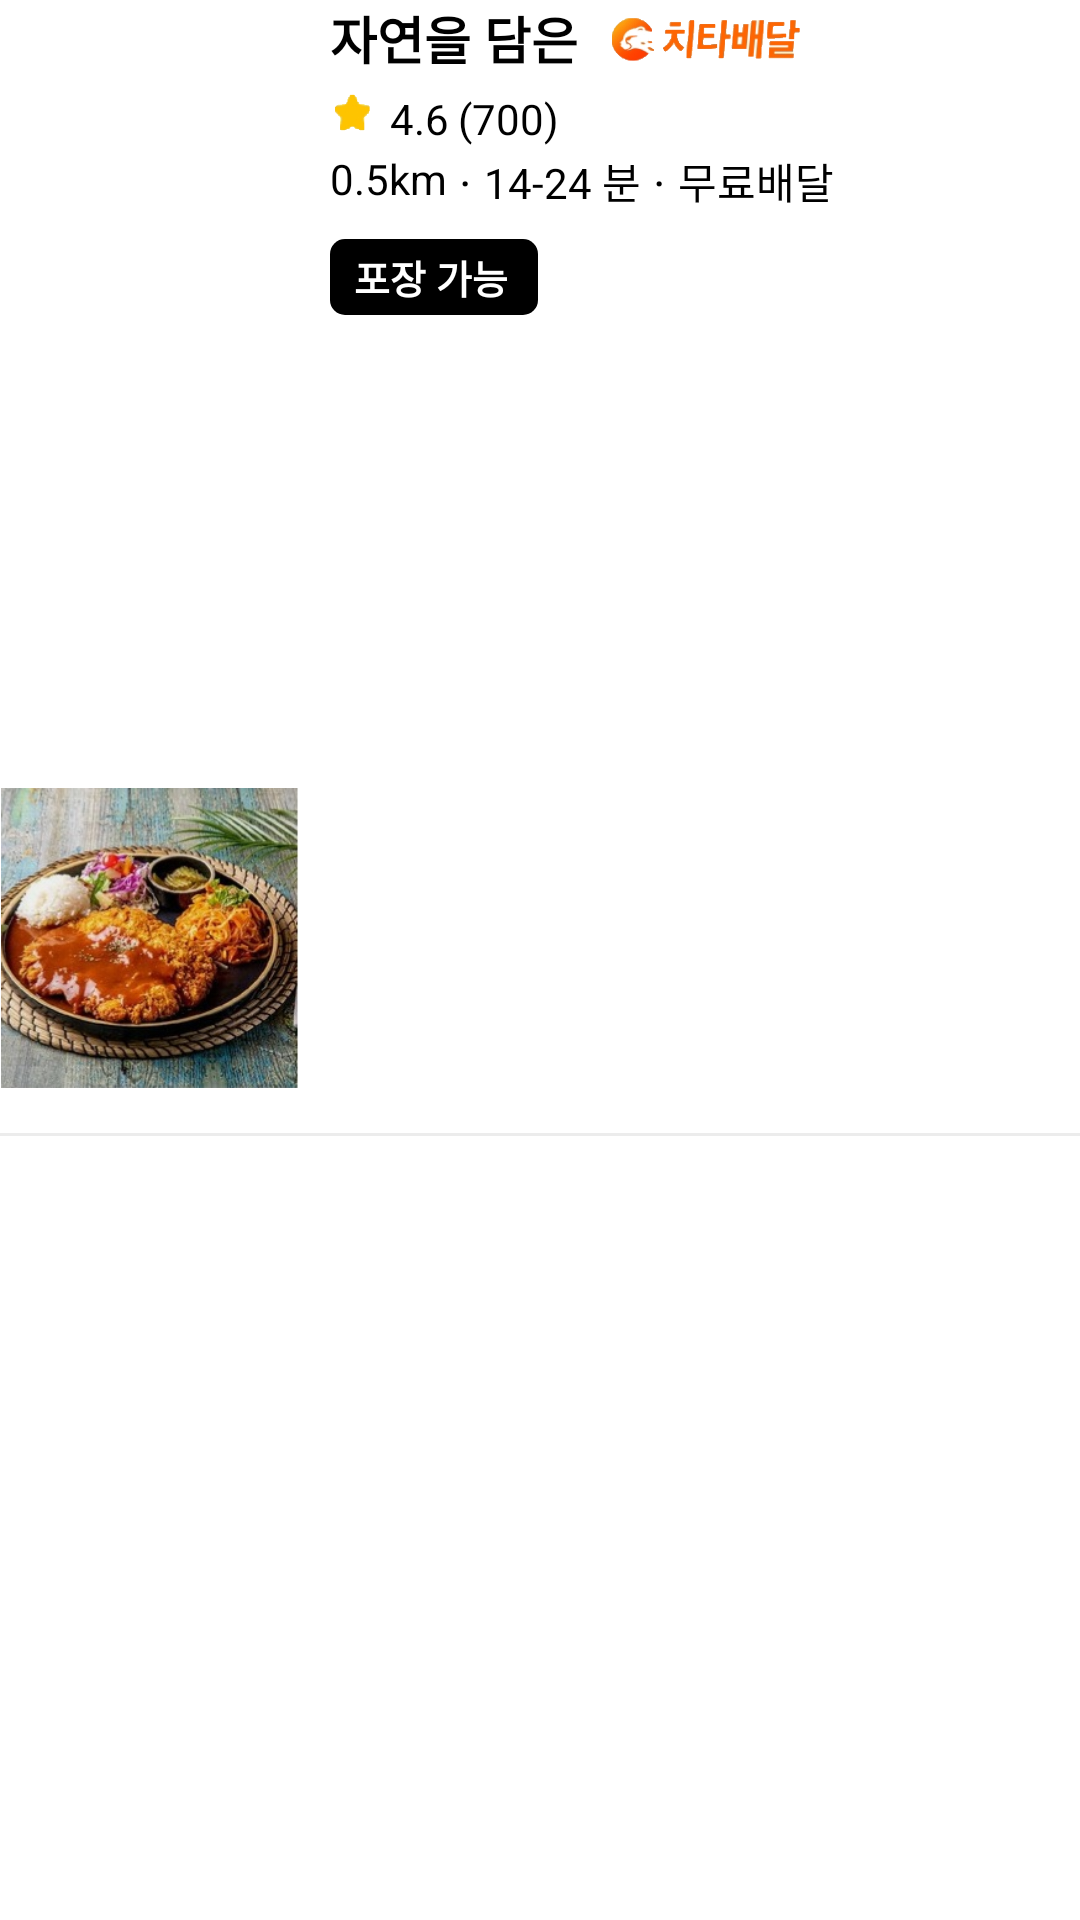

Icon click points for this 1080×1920 phone screenshot, format (x=x, y=y):
star: (x=352, y=112)
